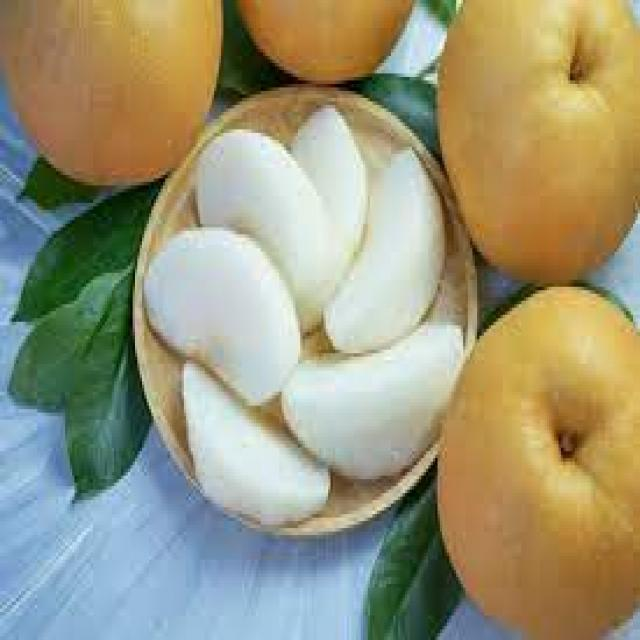Pear: (440, 287, 640, 640), (440, 0, 640, 283)
